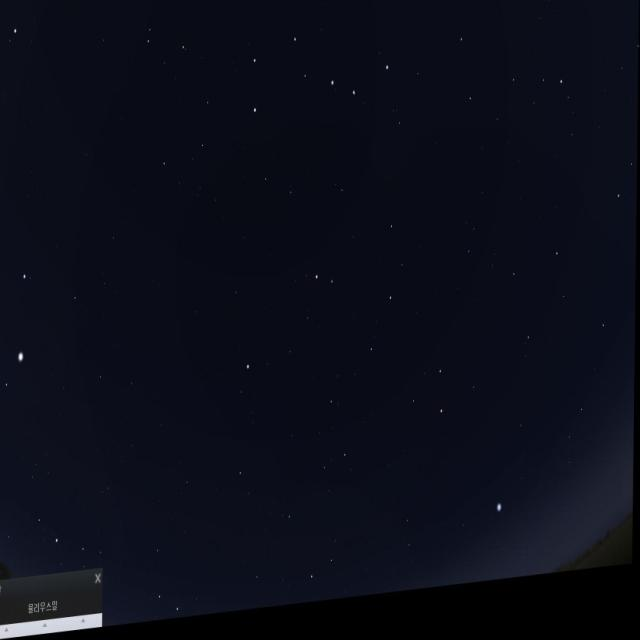ursa_major: (249, 12, 395, 151)
